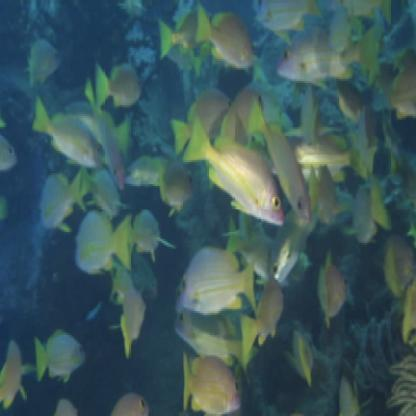Lutjanidae -Snappers-: (182, 108, 289, 224), (170, 239, 260, 312), (30, 93, 106, 178)
